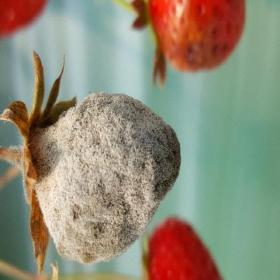Gray Mold: (2, 50, 182, 277)
